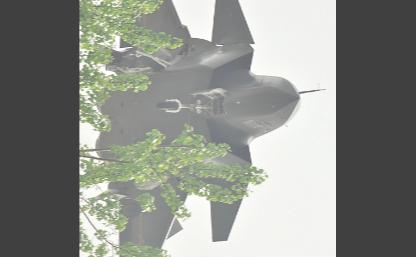F4: (91, 0, 328, 255)
